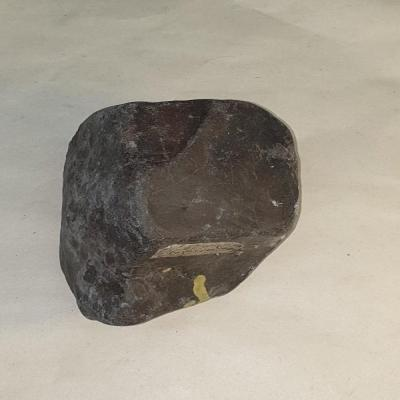mineralogy: (59, 99, 303, 328)
